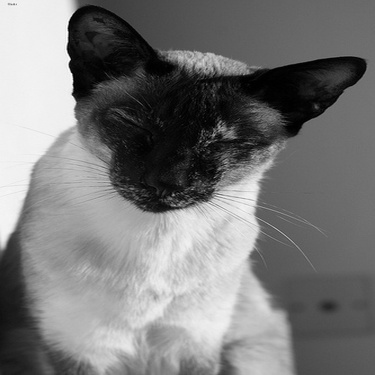cat: (1, 2, 368, 370)
